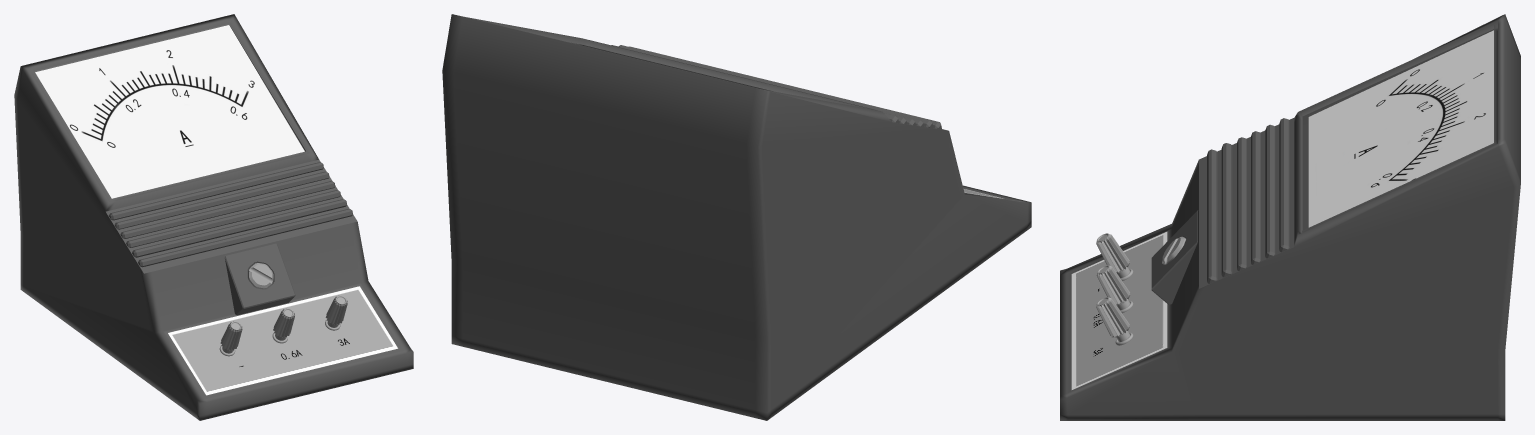
The model's file is dianliubiao2.fbx.
The picture shows the model from 3 angles, left to right: view 1: azimuth 30°, elevation 25°; view 2: azimuth 150°, elevation 25°; view 3: azimuth 270°, elevation 25°; orthographic projection. The views are drawn at different scales.
Parts seen in each view (by area): view 1: pCube19, pCube20, pCylinder6, pCylinder11, pCylinder16, pCylinder19; view 2: pCube19; view 3: pCube19, pCube20, pCylinder11, pCylinder19, pCylinder16.
Boxes of the visible parts, <box> form: pCube19: <box>14,14,413,420</box>; pCube20: <box>35,25,304,198</box>; pCylinder6: <box>248,263,273,289</box>; pCylinder11: <box>325,295,347,325</box>; pCylinder16: <box>220,321,242,350</box>; pCylinder19: <box>273,308,294,337</box>; pCube19: <box>442,14,1031,420</box>; pCube19: <box>1060,14,1520,420</box>; pCube20: <box>1308,30,1493,227</box>; pCylinder11: <box>1096,297,1129,337</box>; pCylinder19: <box>1096,265,1130,305</box>; pCylinder16: <box>1096,233,1129,273</box>.
Bounding box in the file's own units: 1.51 × 1.51 × 2.26.
7 materials, 2 textured.
